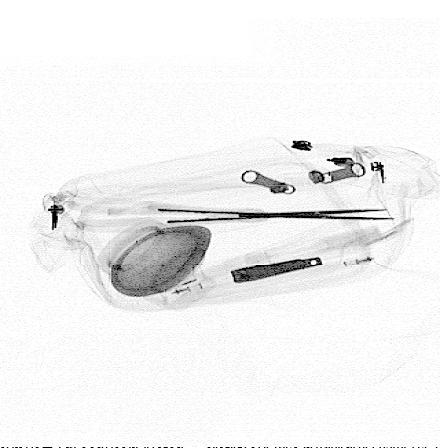Scissors: (72, 202, 398, 232)
